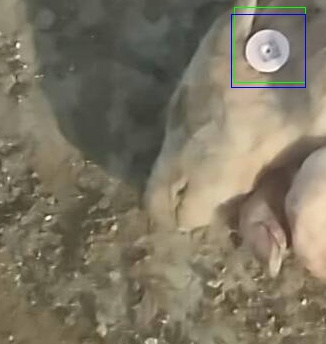text: (234, 7, 305, 82)
